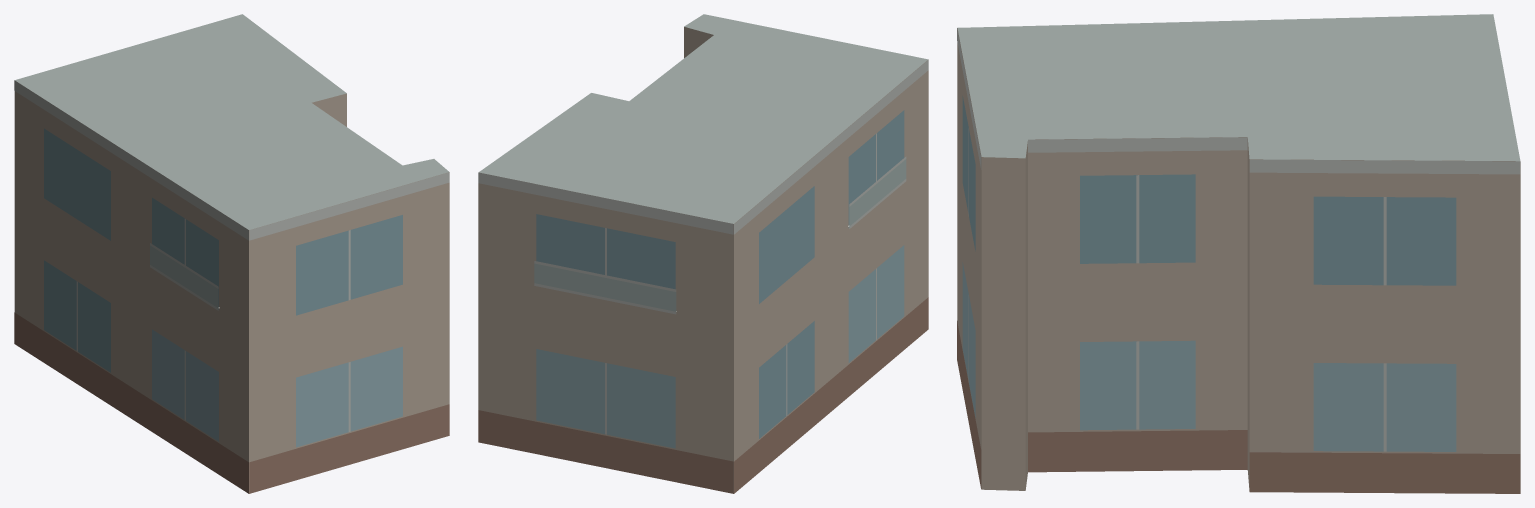
Rendered from survey-upis-32621957.glb.
The picture shows the model from 3 angles, left to right: view 1: azimuth 30°, elevation 25°; view 2: azimuth 150°, elevation 25°; view 3: azimuth 270°, elevation 25°; orthographic projection. The views are drawn at different scales.
Visible parts, largest first — view 1: survey-upis-32621957.tmp; view 2: survey-upis-32621957.tmp; view 3: survey-upis-32621957.tmp.
Boxes of the visible parts, x1,y1,x2,y2 form: survey-upis-32621957.tmp: [14, 14, 449, 493]; survey-upis-32621957.tmp: [478, 14, 928, 493]; survey-upis-32621957.tmp: [957, 14, 1520, 493].
Size of the model in its own units: 5.79 by 6.1 by 9.37.
